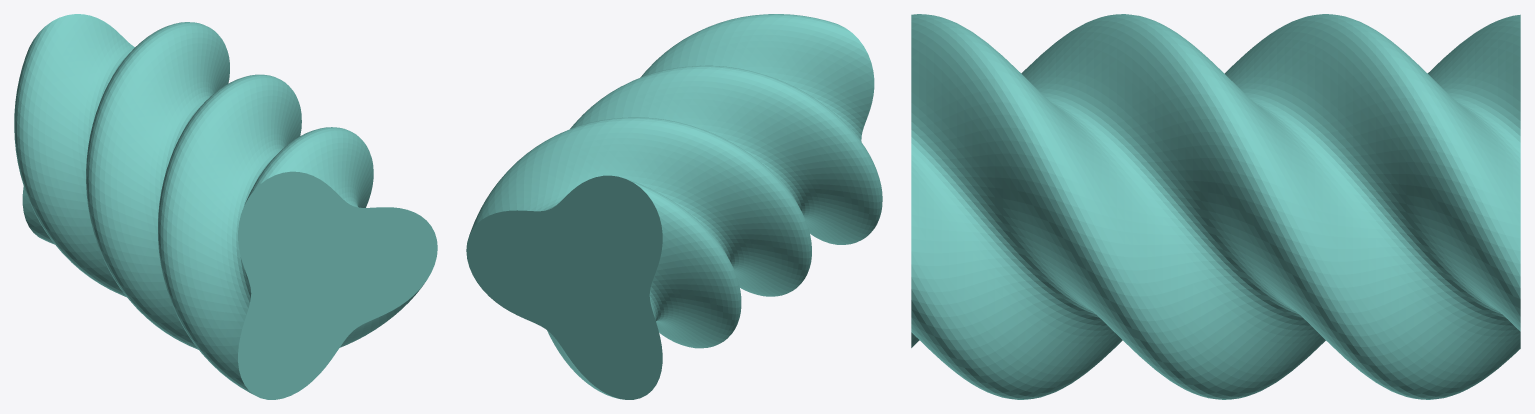
Rendered from extrude_twist_demo.glb.
The picture shows the model from 3 angles, left to right: view 1: azimuth 30°, elevation 25°; view 2: azimuth 150°, elevation 25°; view 3: azimuth 270°, elevation 25°; orthographic projection. The views are drawn at different scales.
Parts seen in each view (by area): view 1: three_lobed_twist; view 2: three_lobed_twist; view 3: three_lobed_twist.
Boxes of the visible parts, box(x1,y1,x2,y2) form: three_lobed_twist: box(14, 14, 437, 399); three_lobed_twist: box(466, 14, 882, 399); three_lobed_twist: box(911, 14, 1520, 399).
Bounding box in the file's own units: 19 × 19 × 30.
